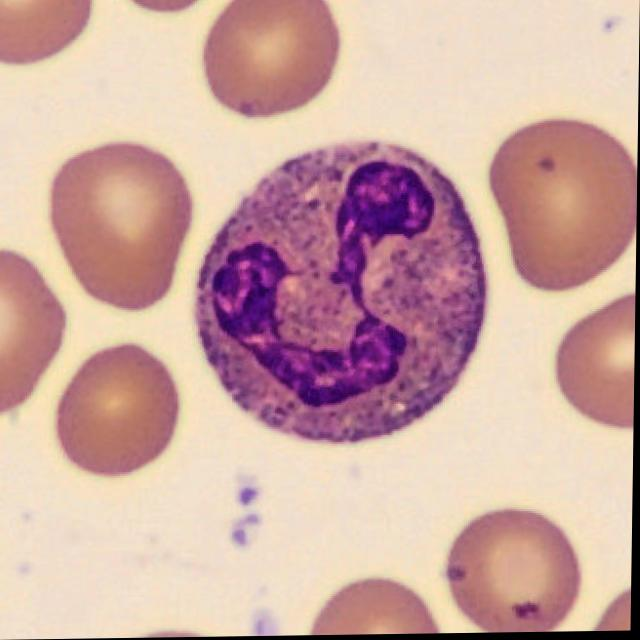Neutrofilo segmentado: (196, 140, 487, 443)
